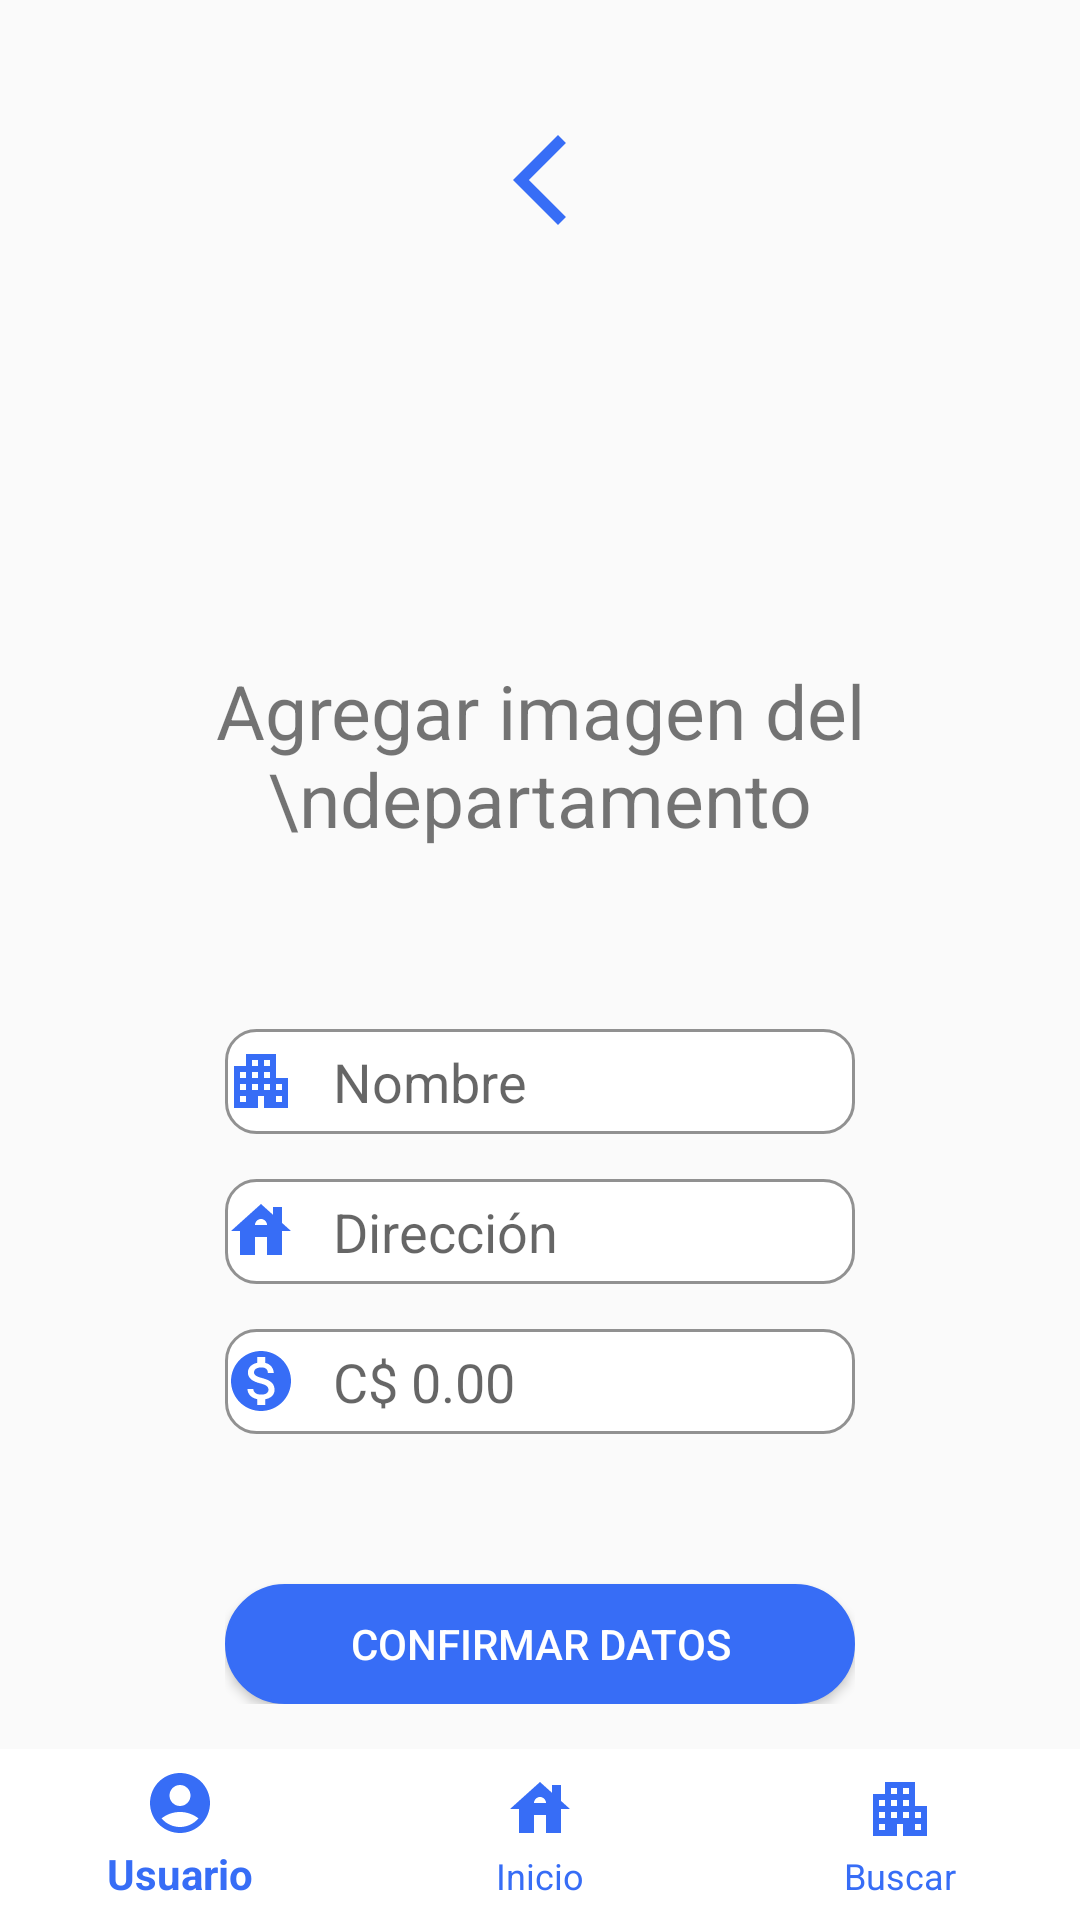

Icon bounding boxes for this 1080 × 1920 phone screenshot, format (x1, y1, x2, y2):
arrow back: (513, 135, 566, 225)
